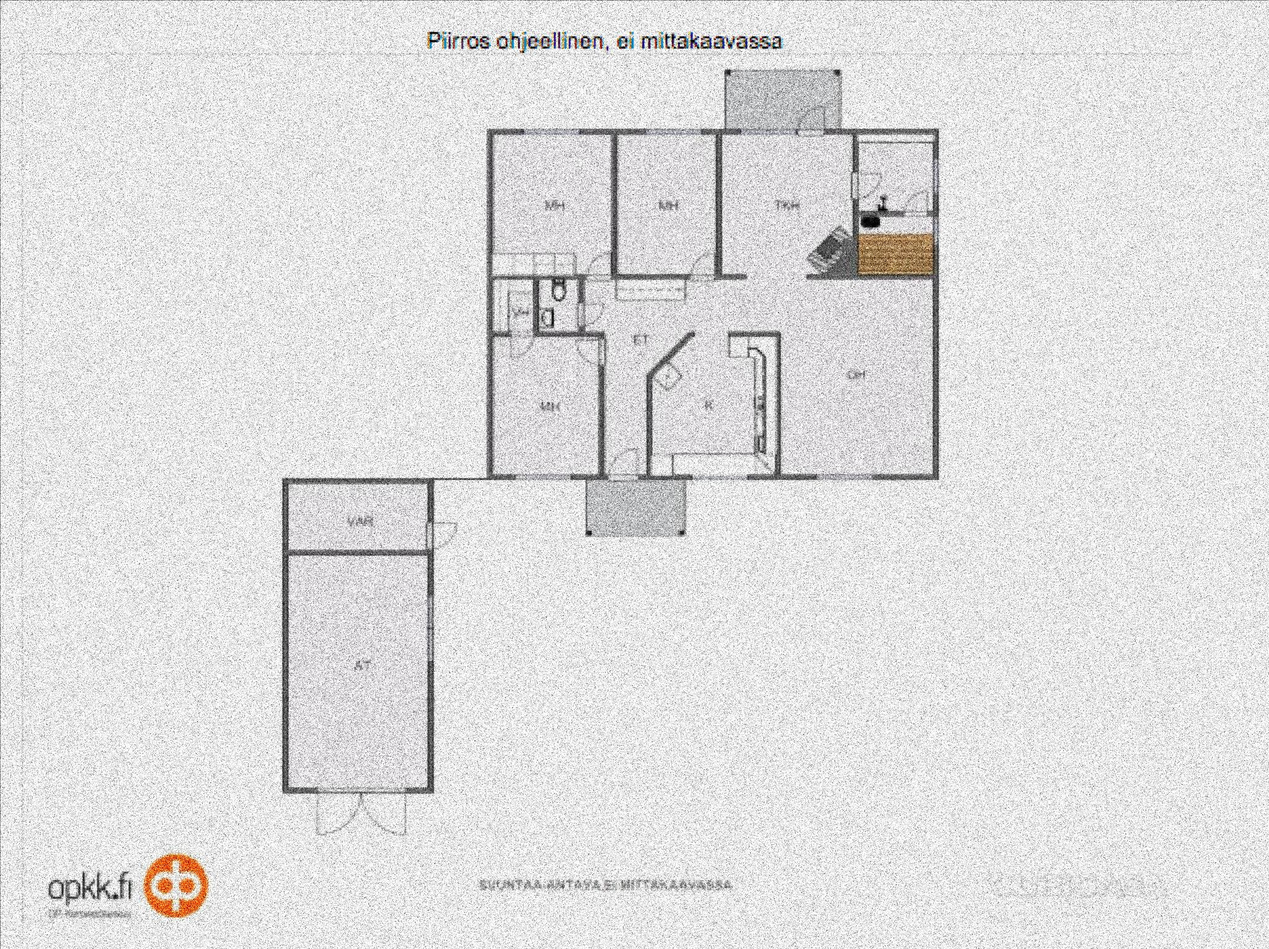door: (312, 785, 413, 849), (573, 331, 611, 373), (417, 519, 461, 553), (503, 330, 541, 361), (684, 244, 715, 280), (795, 106, 829, 136), (607, 450, 639, 478), (905, 187, 933, 218), (845, 173, 879, 195), (588, 248, 610, 278)
window: (518, 125, 581, 142), (511, 470, 574, 486), (811, 468, 873, 483), (425, 590, 437, 665), (644, 124, 701, 139), (696, 470, 748, 483)
zone: (589, 277, 930, 473), (287, 555, 427, 788), (722, 130, 852, 276), (490, 132, 607, 274), (494, 337, 598, 475), (614, 132, 714, 274), (290, 485, 431, 551), (847, 130, 940, 213), (727, 66, 840, 123), (488, 279, 579, 333), (861, 217, 933, 276)
